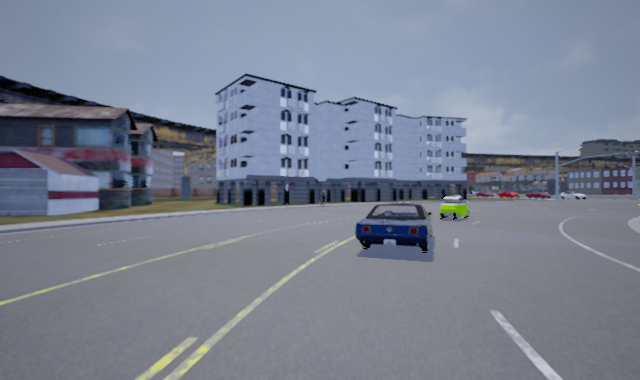pedestrian: (319, 186, 328, 206)
vehicle: (354, 201, 434, 253), (434, 195, 471, 220), (561, 191, 587, 200), (526, 191, 552, 200), (498, 189, 518, 199), (475, 191, 494, 199)
